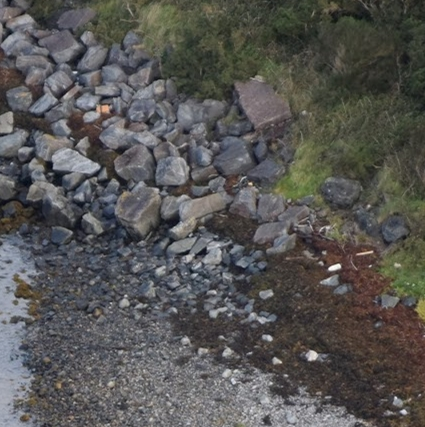scattered_barrel: (315, 241, 407, 276)
white_in_green: (86, 90, 128, 124)
